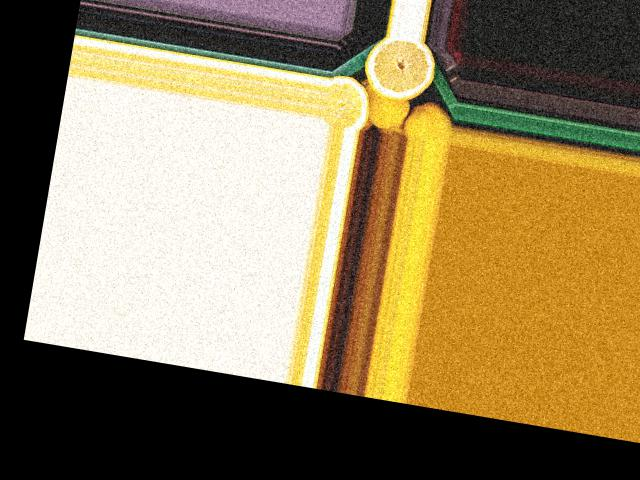lemon: (358, 82, 411, 134)
